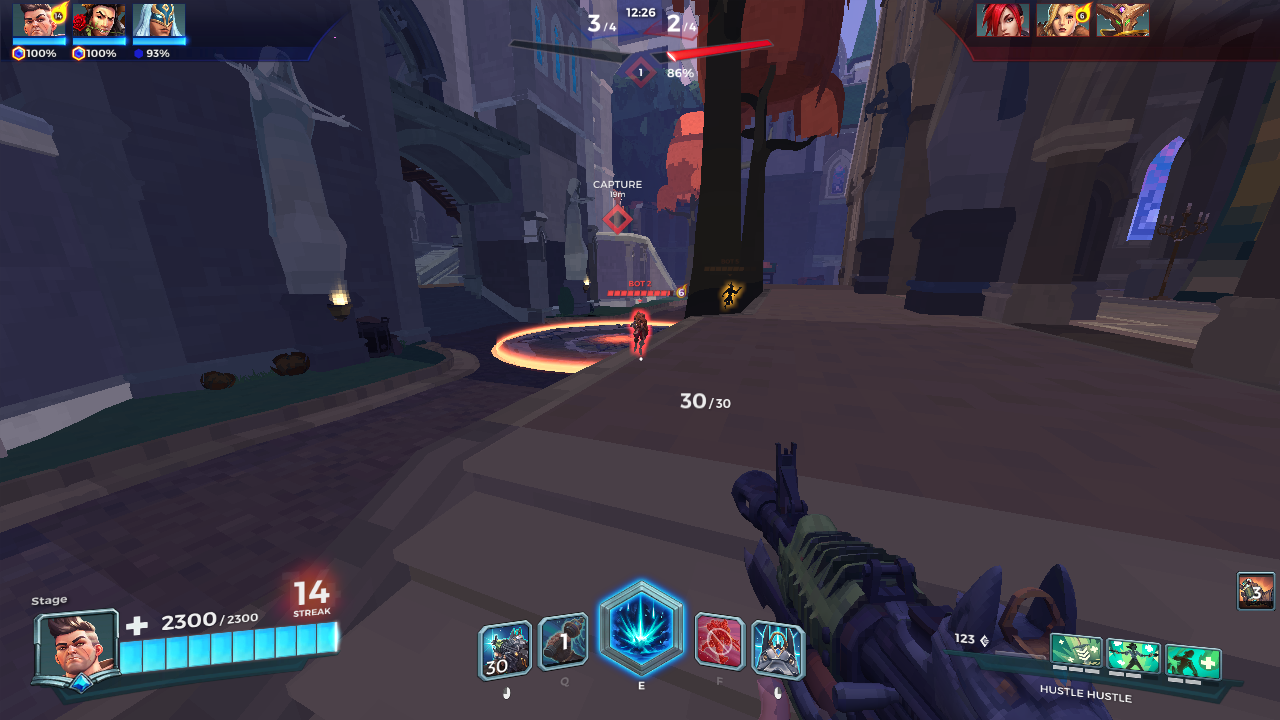model: (623, 301, 653, 352), (717, 282, 745, 317)
